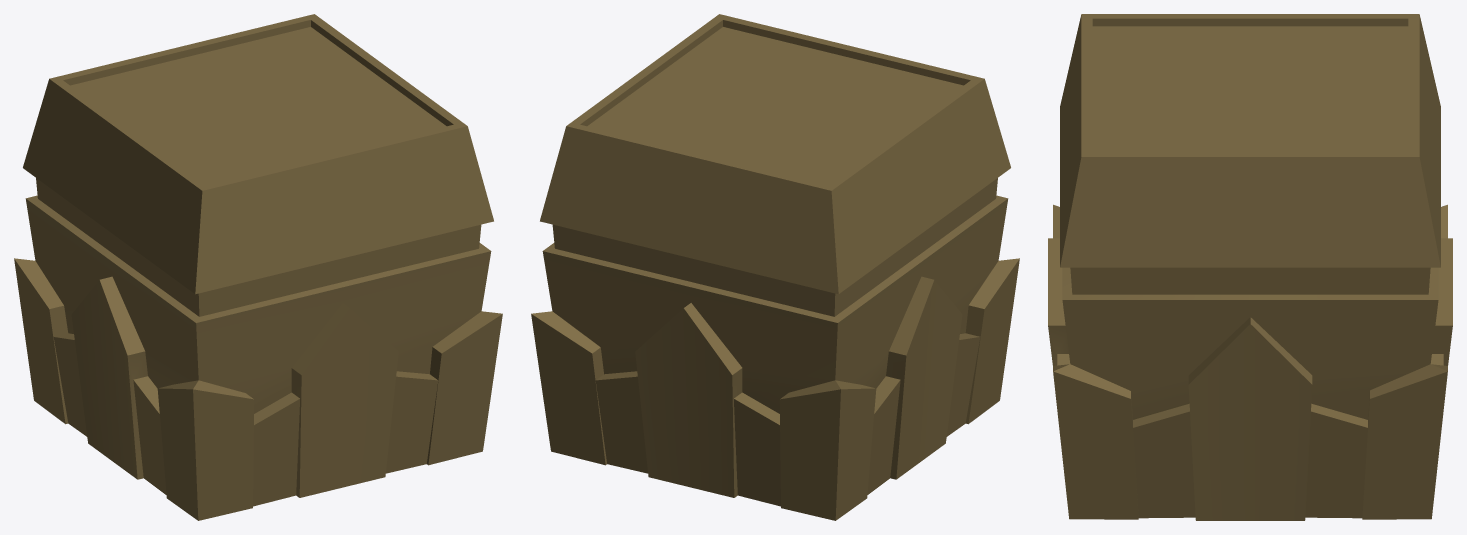
The model's file is SM_Package.fbx.
The picture shows the model from 3 angles, left to right: view 1: azimuth 30°, elevation 25°; view 2: azimuth 150°, elevation 25°; view 3: azimuth 270°, elevation 25°; orthographic projection. The views are drawn at different scales.
Parts seen in each view (by area): view 1: SM_Package; view 2: SM_Package; view 3: SM_Package.
Boxes of the visible parts, x1,y1,x2,y2 form: SM_Package: [14, 14, 502, 520]; SM_Package: [531, 14, 1019, 520]; SM_Package: [1048, 14, 1452, 520].
Bounding box in the file's own units: 49.51 × 48.24 × 49.51.
